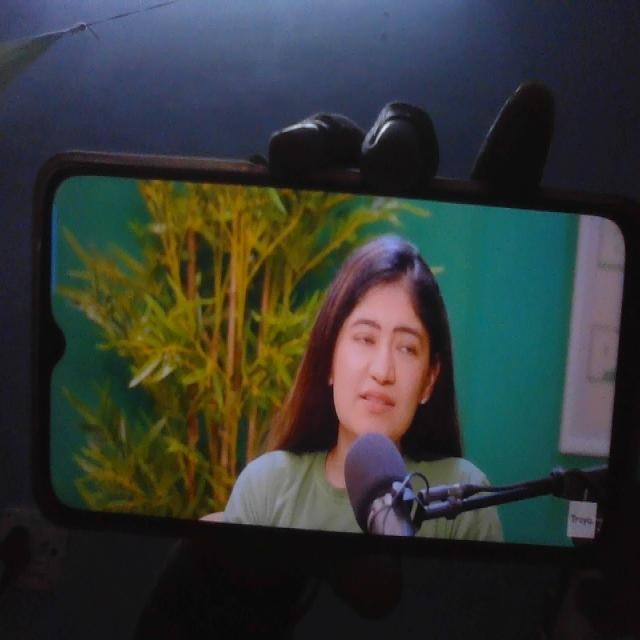fake: (328, 235, 439, 445)
